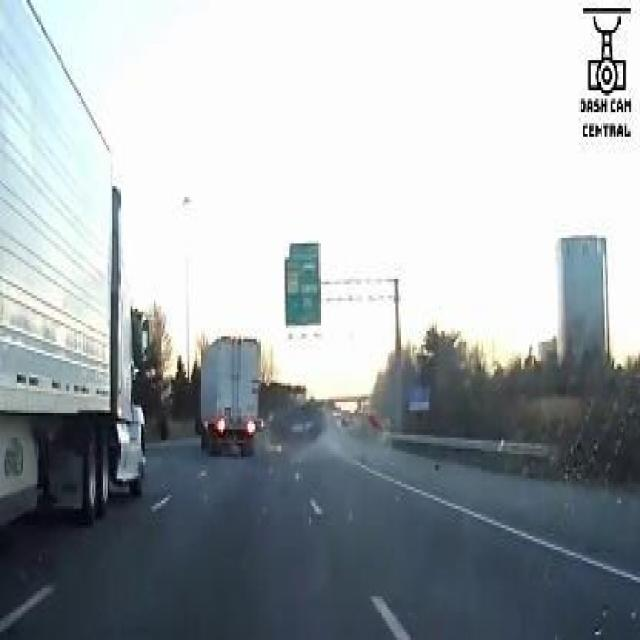accident: (268, 399, 323, 448)
